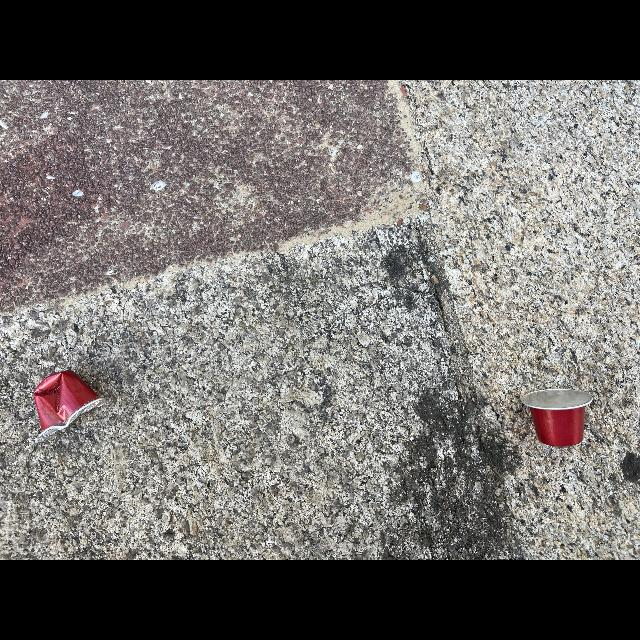damaged_capsule: (24, 356, 118, 440)
intact_capsule: (512, 378, 604, 454)
